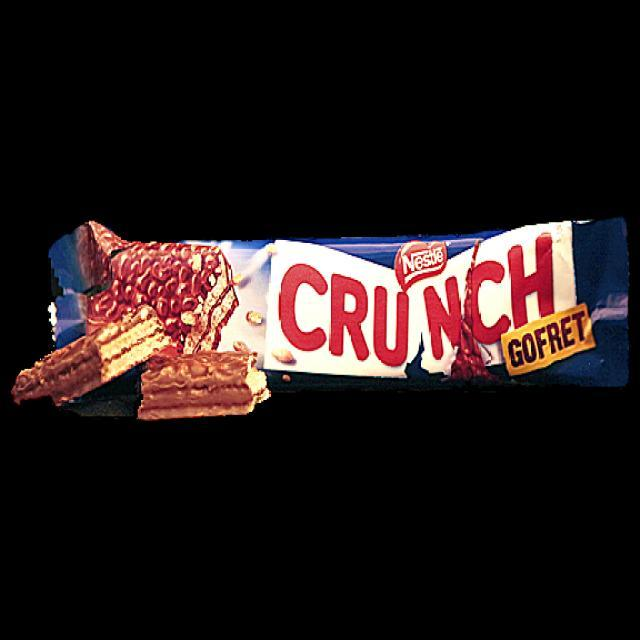Chocolate bar: (46, 219, 638, 389)
Chocolate bar packaged: (14, 307, 173, 418), (139, 353, 273, 423)
